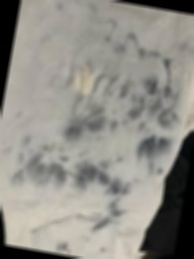ink: (112, 40, 191, 137), (12, 134, 71, 191), (74, 157, 134, 200), (62, 95, 110, 143), (92, 195, 127, 237), (137, 133, 173, 167), (56, 239, 72, 253)
